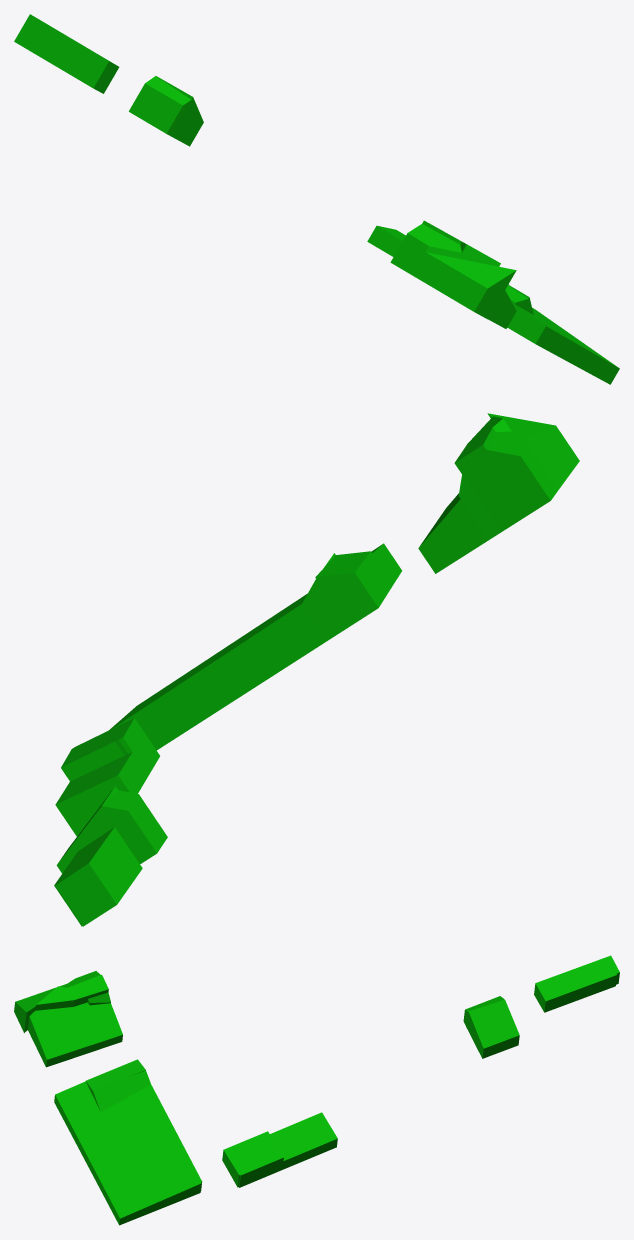
The picture shows the model from 3 angles, top to bottom: view 1: azimuth 30°, elevation 25°; view 2: azimuth 150°, elevation 25°; view 3: azimuth 270°, elevation 25°; orthographic projection. The views are drawn at different scales.
Parts seen in each view (by area): view 1: mesh; view 2: mesh; view 3: mesh.
Boxes of the visible parts, x1,y1,x2,y2 form: mesh: (14,14,619,384); mesh: (54,413,579,926); mesh: (14,955,619,1225).
Size of the model in its own units: 37.53 by 26.66 by 83.84.
